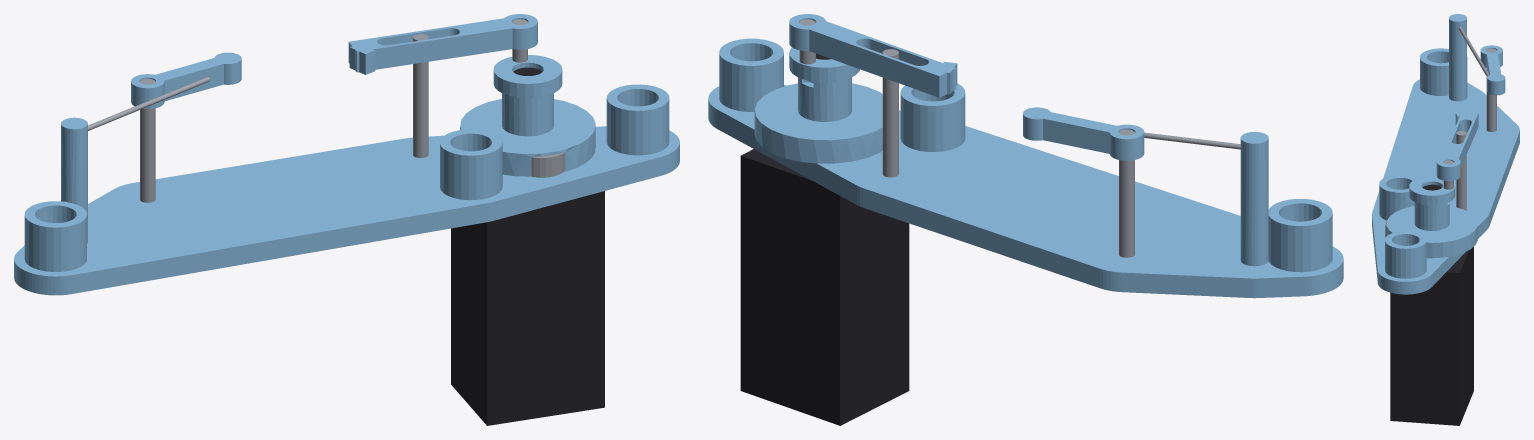
Rendered from m2_e6_fallback_pawl.dae.
3 renders of one model, left to right at view 1: azimuth 30°, elevation 25°; view 2: azimuth 150°, elevation 25°; view 3: azimuth 270°, elevation 25°, orthographic. The views are drawn at different scales.
Visible parts, largest first — view 1: e6_bracket, E6_gearmotor, e6_crank, e6_pawl, ring_jumper, e6_fulcrum, ring_jumper_pivot, ring_jumper_spring, e6_magnet; view 2: e6_bracket, E6_gearmotor, e6_crank, e6_pawl, ring_jumper, e6_fulcrum, ring_jumper_pivot, ring_jumper_spring; view 3: e6_bracket, E6_gearmotor, e6_crank, e6_pawl, ring_jumper, e6_fulcrum, ring_jumper_pivot, ring_jumper_spring.
Part boxes in pixels (bbox=[...]): e6_bracket: bbox=[14, 84, 679, 295]; E6_gearmotor: bbox=[451, 67, 604, 425]; e6_crank: bbox=[460, 55, 595, 176]; e6_pawl: bbox=[348, 14, 537, 74]; ring_jumper: bbox=[131, 52, 241, 108]; e6_fulcrum: bbox=[413, 34, 428, 157]; ring_jumper_pivot: bbox=[140, 78, 155, 202]; ring_jumper_spring: bbox=[88, 76, 209, 130]; e6_magnet: bbox=[531, 152, 565, 176]; e6_bracket: bbox=[708, 38, 1343, 298]; E6_gearmotor: bbox=[740, 53, 909, 425]; e6_crank: bbox=[754, 47, 882, 163]; e6_pawl: bbox=[789, 14, 957, 97]; ring_jumper: bbox=[1023, 107, 1144, 160]; e6_fulcrum: bbox=[882, 49, 898, 177]; ring_jumper_pivot: bbox=[1119, 129, 1134, 257]; ring_jumper_spring: bbox=[1144, 132, 1240, 149]; e6_bracket: bbox=[1372, 14, 1519, 294]; E6_gearmotor: bbox=[1390, 184, 1473, 425]; e6_crank: bbox=[1386, 176, 1477, 258]; e6_pawl: bbox=[1436, 111, 1478, 180]; ring_jumper: bbox=[1480, 45, 1505, 95]; e6_fulcrum: bbox=[1456, 131, 1466, 210]; ring_jumper_pivot: bbox=[1486, 48, 1496, 131]; ring_jumper_spring: bbox=[1458, 27, 1489, 76].
Bounding box in the file's own units: 69.47 × 21.01 × 38.5.
